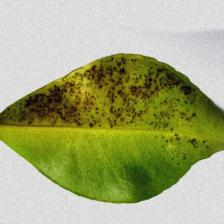canker: (6, 56, 179, 121)
